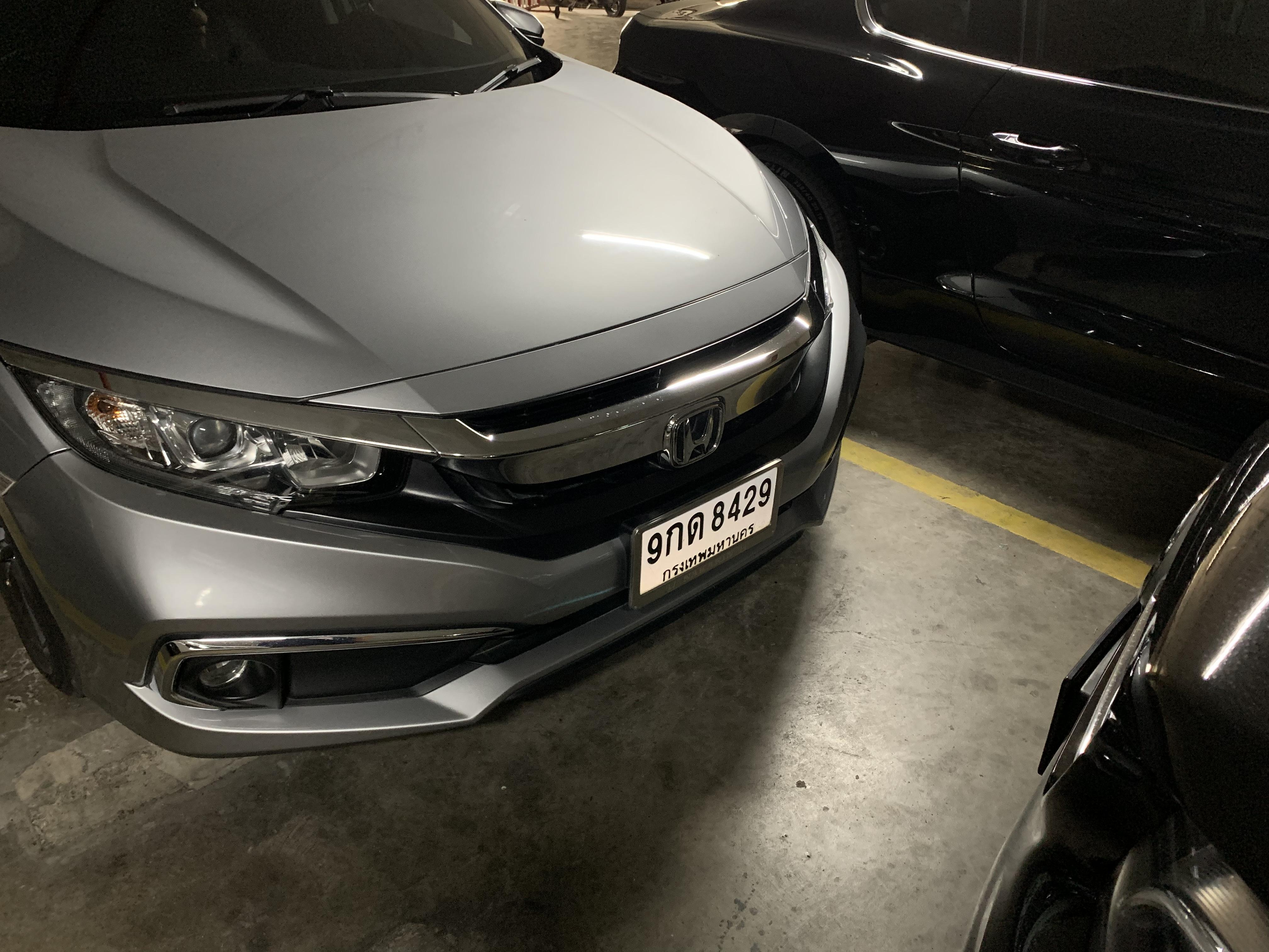license-plate: (623, 455, 784, 616)
